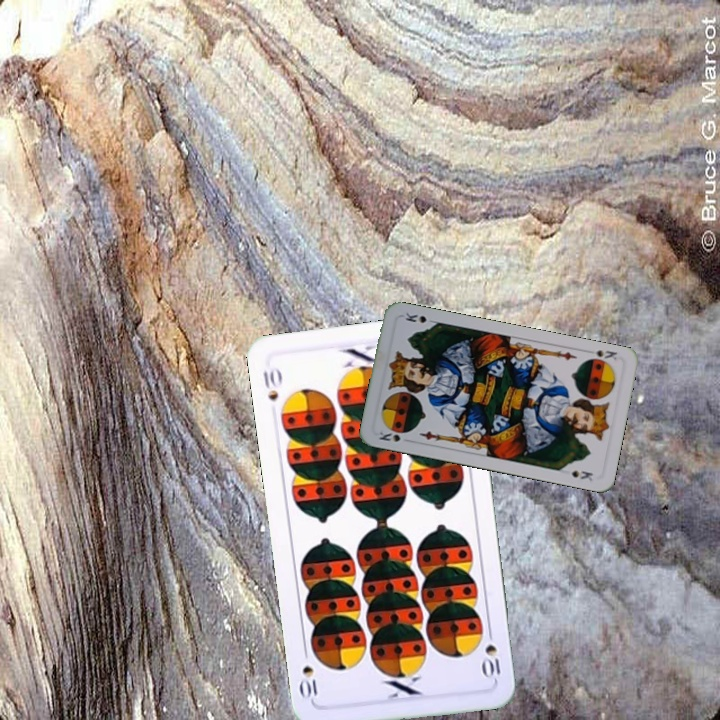S10: (480, 624, 503, 683), (259, 363, 284, 404)
SK: (582, 346, 620, 367), (375, 427, 403, 445)
